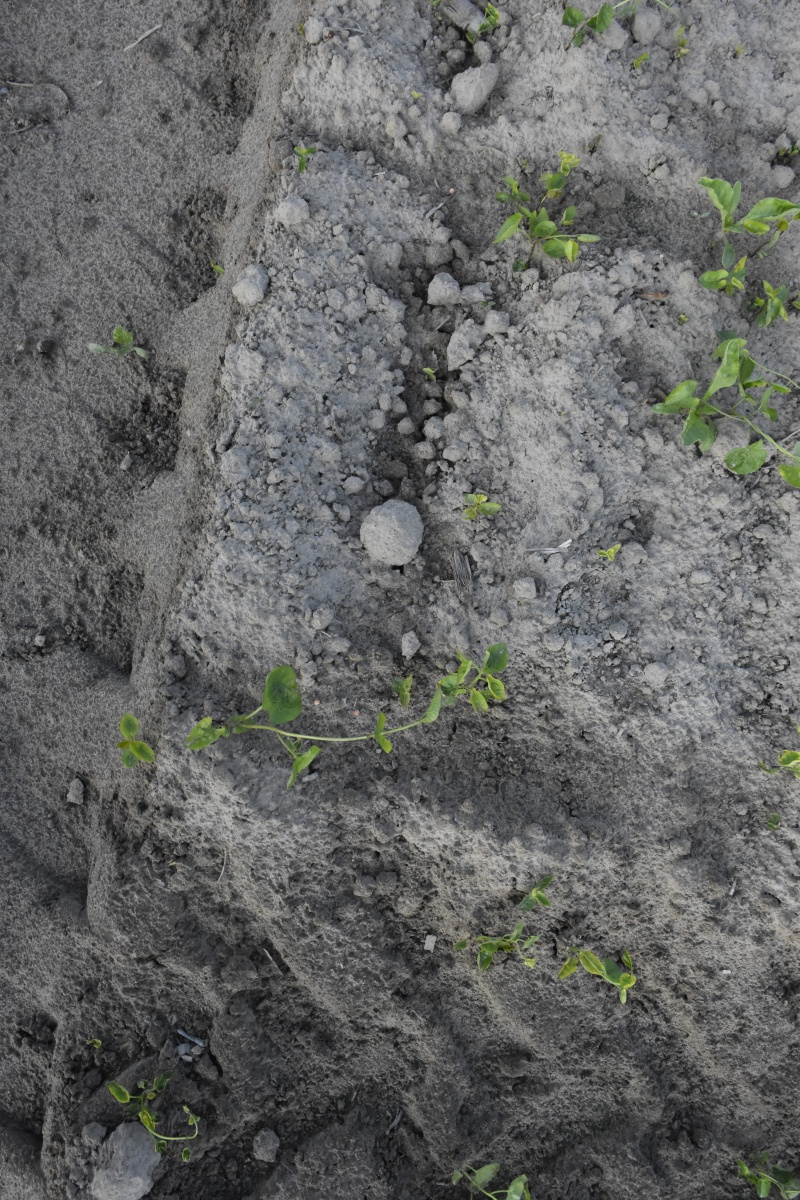field bindweed: (173, 644, 513, 777), (664, 333, 799, 490), (494, 154, 600, 267), (104, 1075, 216, 1171), (454, 877, 554, 968), (447, 1158, 543, 1200), (571, 948, 650, 999), (114, 711, 151, 775), (95, 325, 152, 366), (459, 490, 508, 524)
sugar beet: (695, 175, 784, 263)
